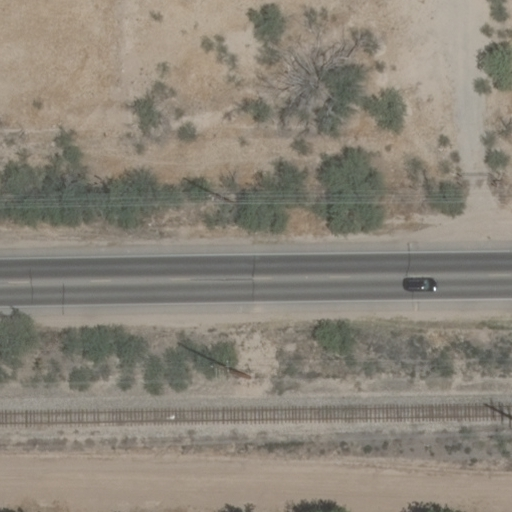DT: (224, 358, 255, 381)
